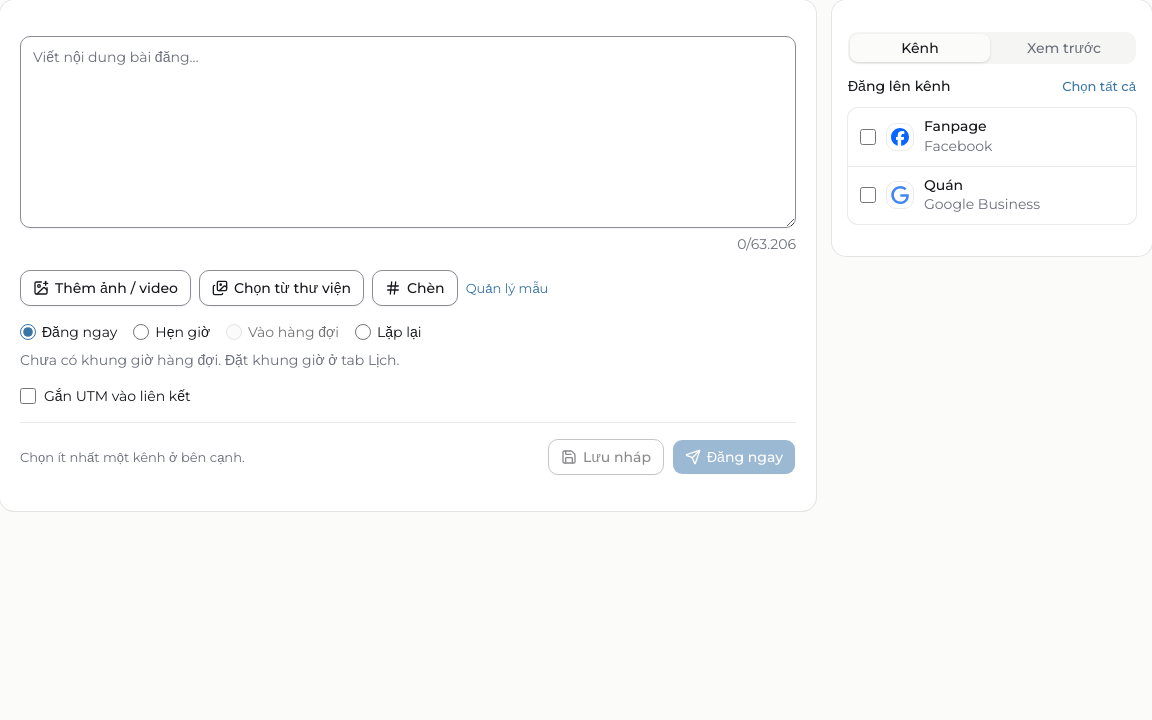
Scenario: ô soạn — Gắn UTM › tắt mặc định, bật ⇒ hiện ô chiến dịch với tên mặc định từ nội dung
This screenshot has width=1152, height=720.
Type "Ưu đãi mùa thu https://shop.vn/sp" into the text box labelled "nội dung bài đăng" at (408, 132), box [20,36,796,228]
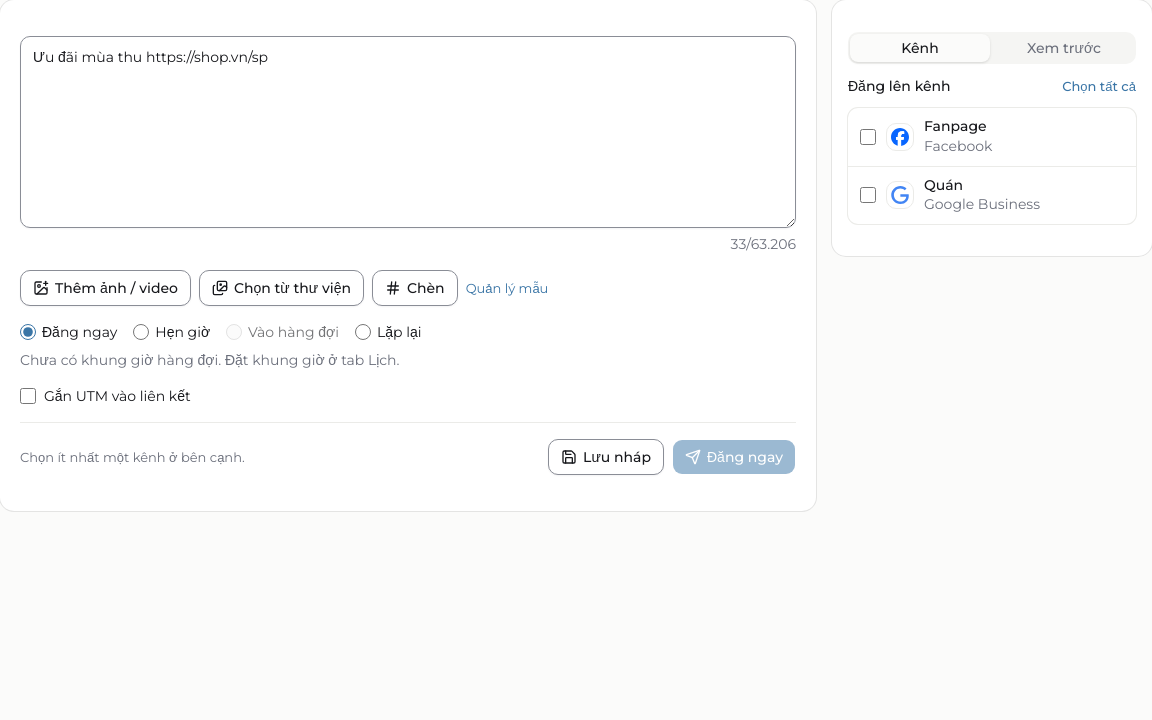
Click the checkbox labelled "Gắn UTM vào liên kết" at (28, 396), box [20,388,36,404]
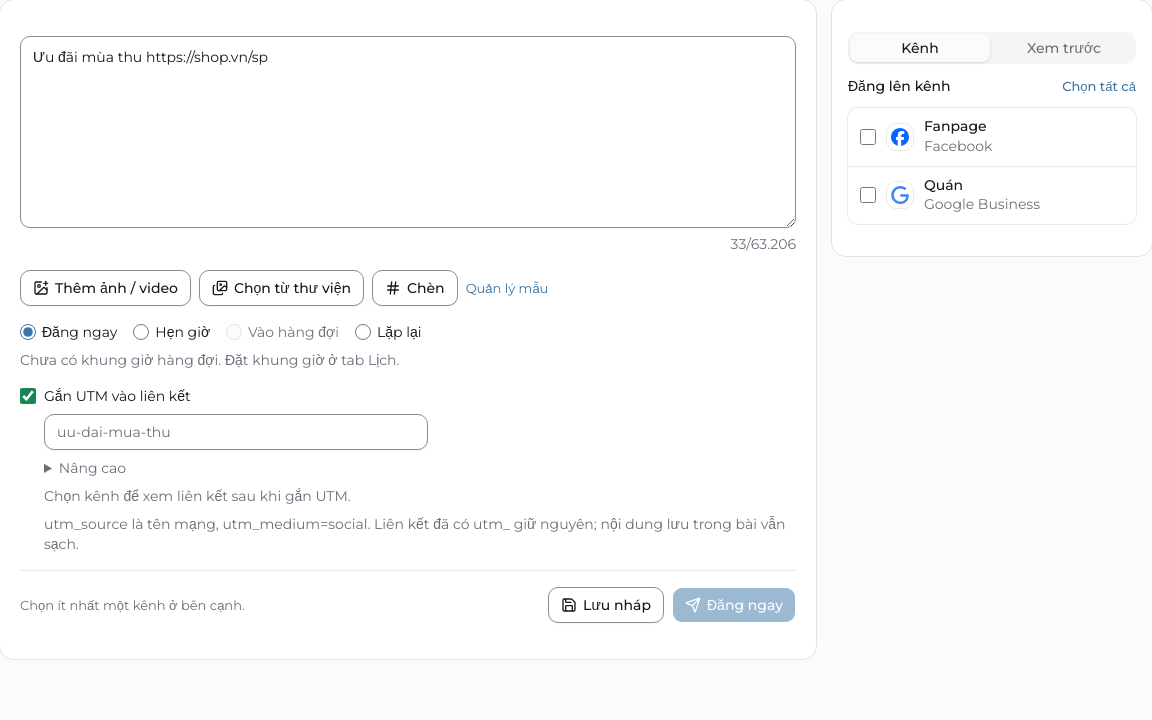
Now the element named "utm_content" is shown, box [59,459,126,477]
